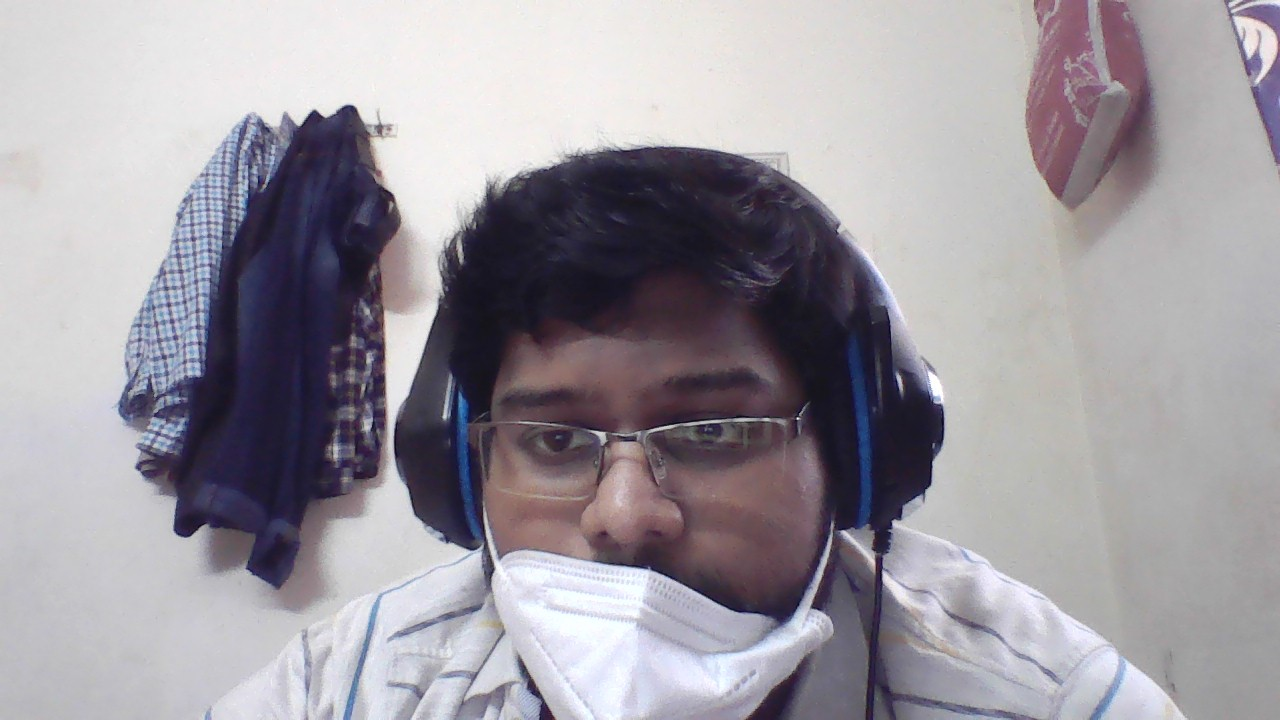NoMask: (467, 469, 862, 665)
